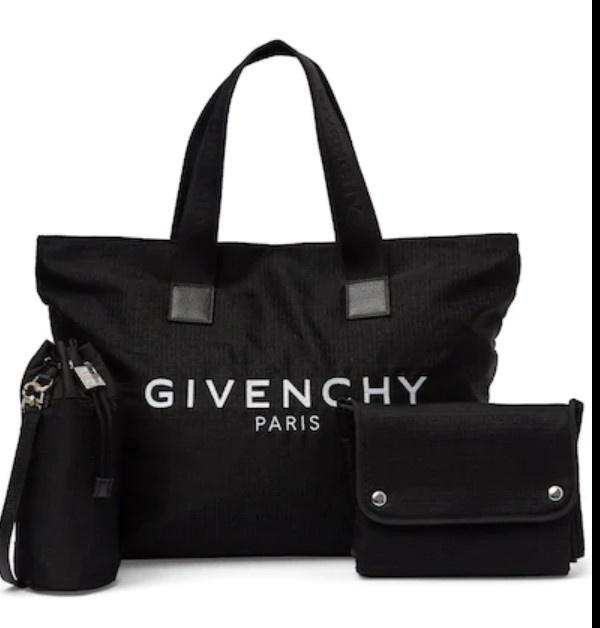GIVENCHY: (139, 367, 446, 417)
